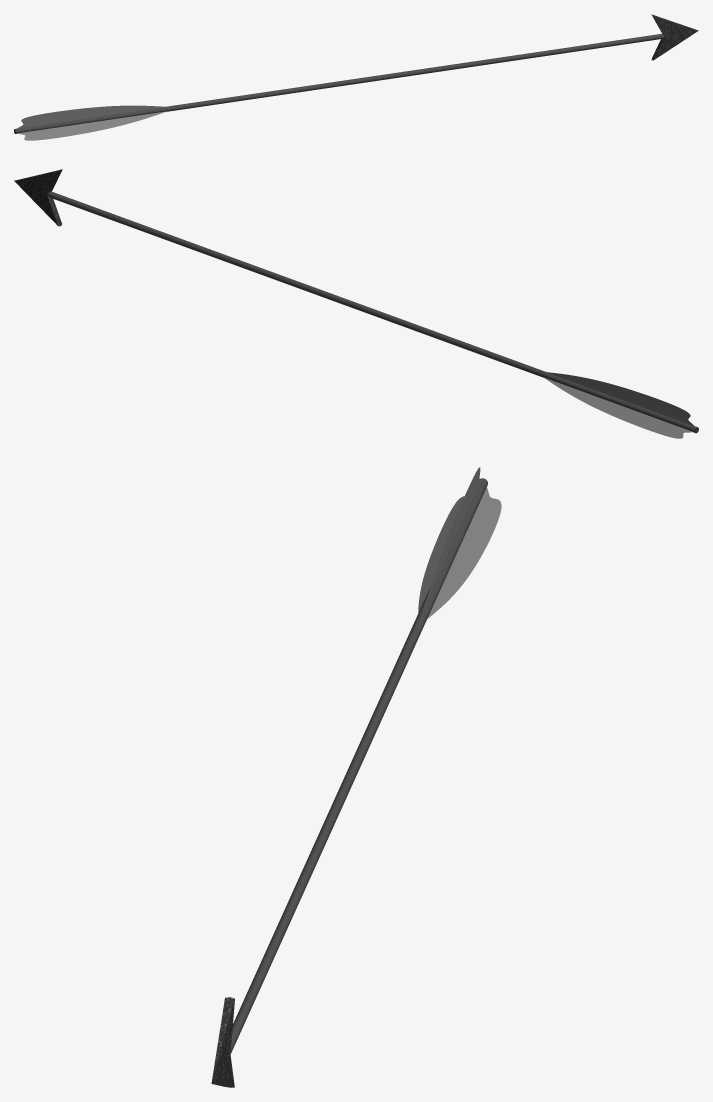
File: Arrow KS.fbx
3 views of the same model, one above another, from view 1: azimuth 30°, elevation 25°; view 2: azimuth 150°, elevation 25°; view 3: azimuth 270°, elevation 25° (orthographic). The views are drawn at different scales.
Visible parts, largest first — view 1: Medieval Arrow #1; view 2: Medieval Arrow #1; view 3: Medieval Arrow #1.
Part boxes in pixels (left/top/right/bottom): Medieval Arrow #1: left=14, top=14, right=698, bottom=140; Medieval Arrow #1: left=14, top=169, right=698, bottom=438; Medieval Arrow #1: left=211, top=467, right=501, bottom=1087.
Size of the model in its own units: 24.54 by 1.72 by 5.
3 materials, 1 textured.
